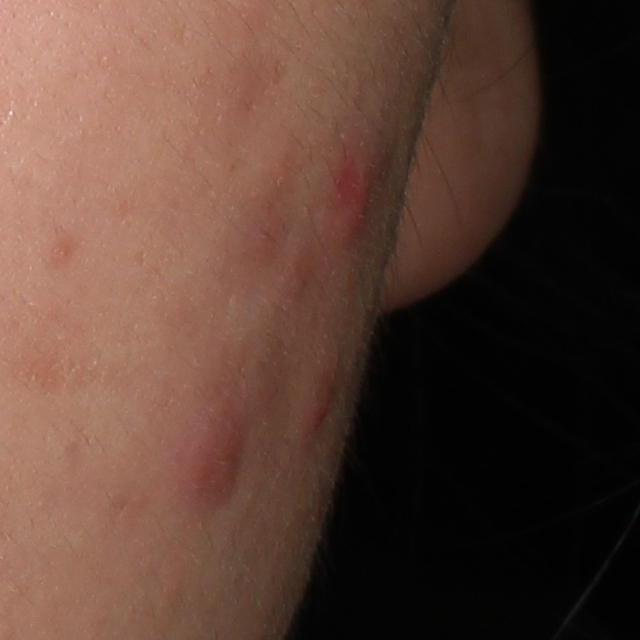papule: (335, 168, 380, 245), (294, 383, 336, 445)
